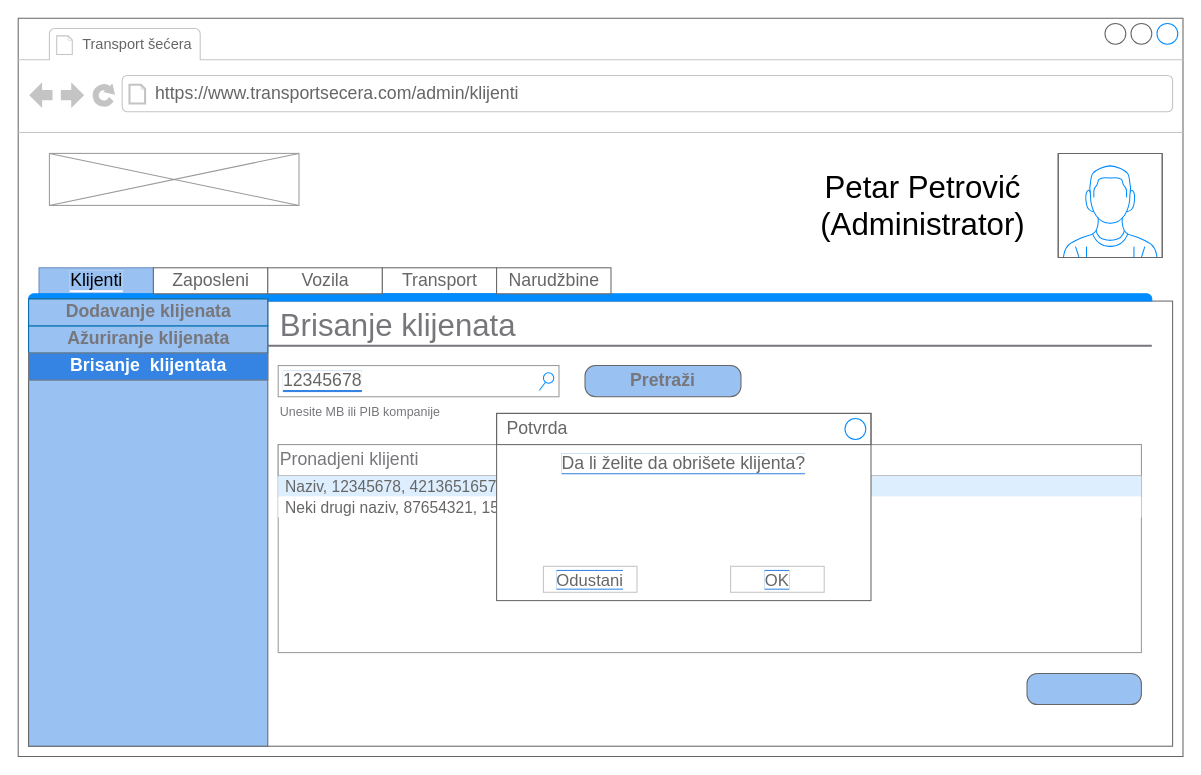
Some shapes in this 1201 by 775 pixel diagram are drawn without their labels. The box of each missing label's shape, as (x1, y1, x2, y2) in pixels:
LOGO: (48, 152, 299, 205)
Obriši: (1026, 672, 1141, 705)
